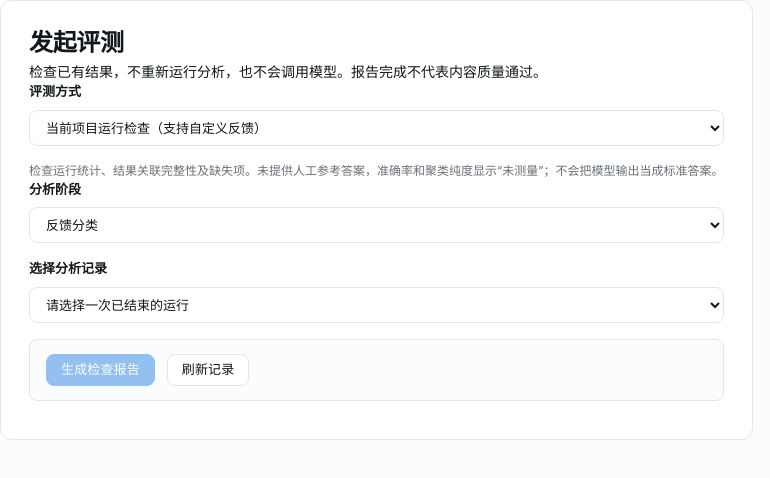
explains reference dataset mismatch without creating a displayed report
Step 1. Select "内置参考样本评测（仅限配套演示数据）" in the dropdown labelled "评测方式" → (376, 128), box [29,110,724,146]
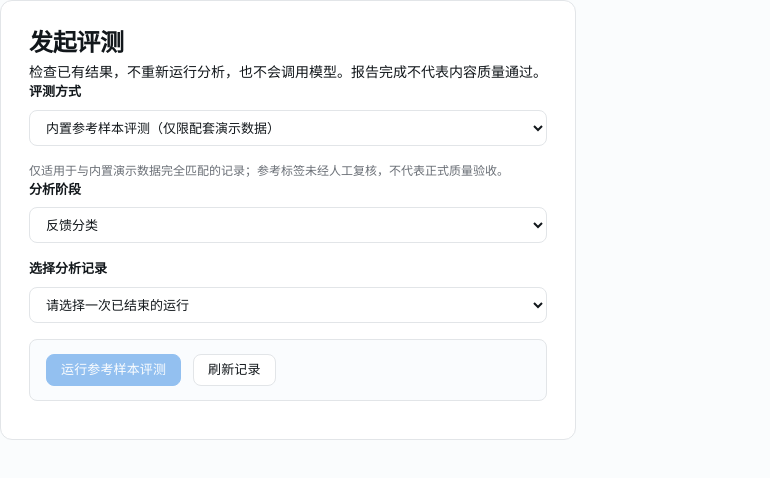
Step 2. Select "已有记录 · 已完成 · 2 条 · a" in the dropdown labelled "选择分析记录" → (288, 304), box [29,286,547,322]
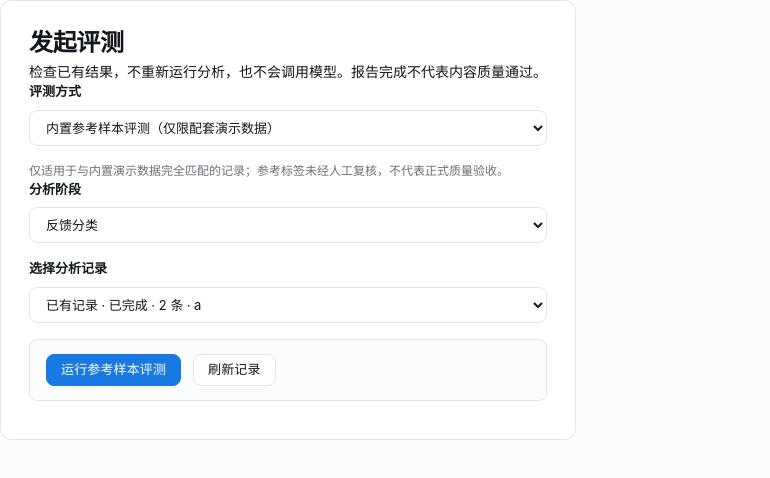
Step 3. Click the button "运行参考样本评测" → (114, 370), box [46,354,181,386]
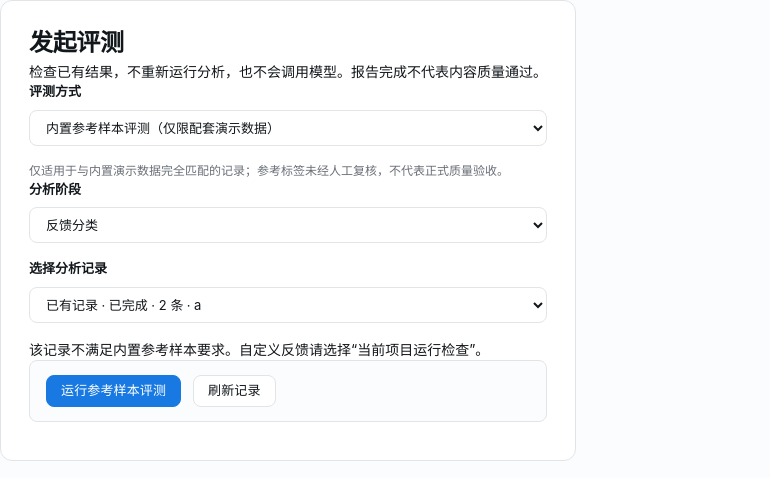
Check: the message shows "自定义反馈请选择", box [29,340,489,358]
